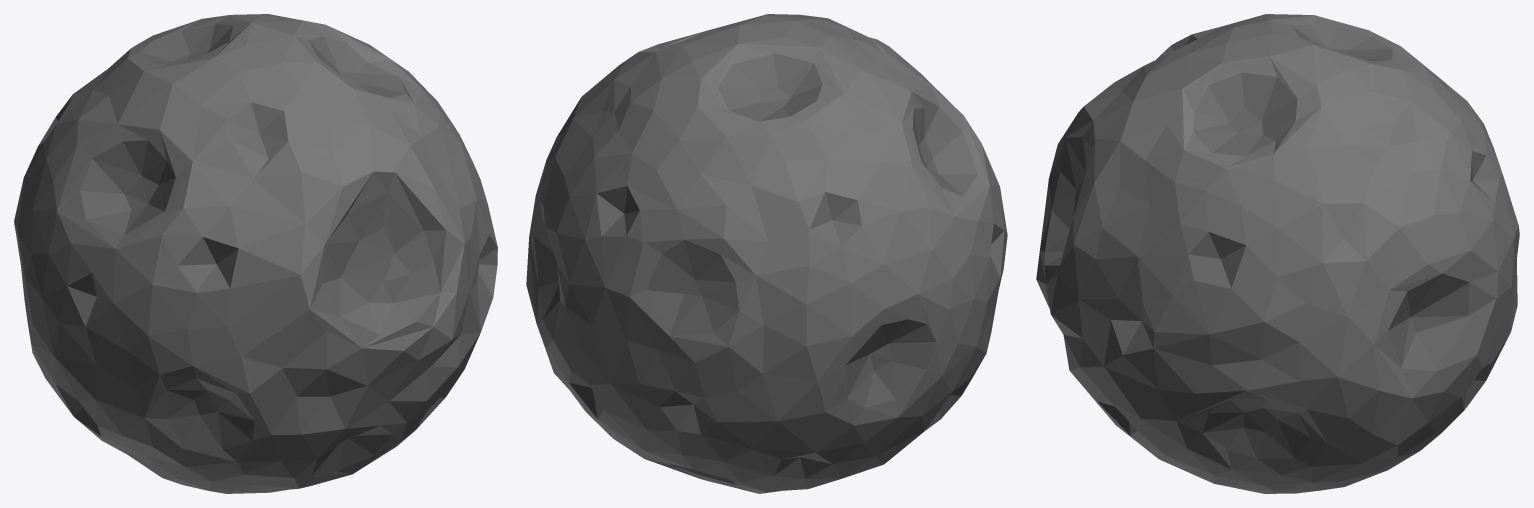
The model's file is Moon.FBX.
3 views of the same model, side by side, from view 1: azimuth 30°, elevation 25°; view 2: azimuth 150°, elevation 25°; view 3: azimuth 270°, elevation 25° (orthographic).
Parts seen in each view (by area): view 1: Moon; view 2: Moon; view 3: Moon.
Boxes of the visible parts, box(x1,y1,x2,y2) form: Moon: box(14, 14, 497, 493); Moon: box(526, 14, 1007, 493); Moon: box(1036, 14, 1519, 493).
Bounding box in the file's own units: 0.1975 × 0.1965 × 0.1984.
